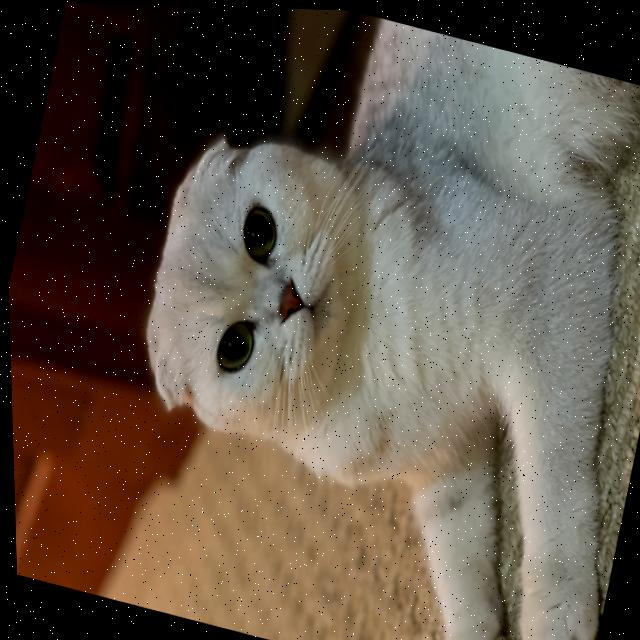Scottish Fold: (64, 1, 640, 640)
